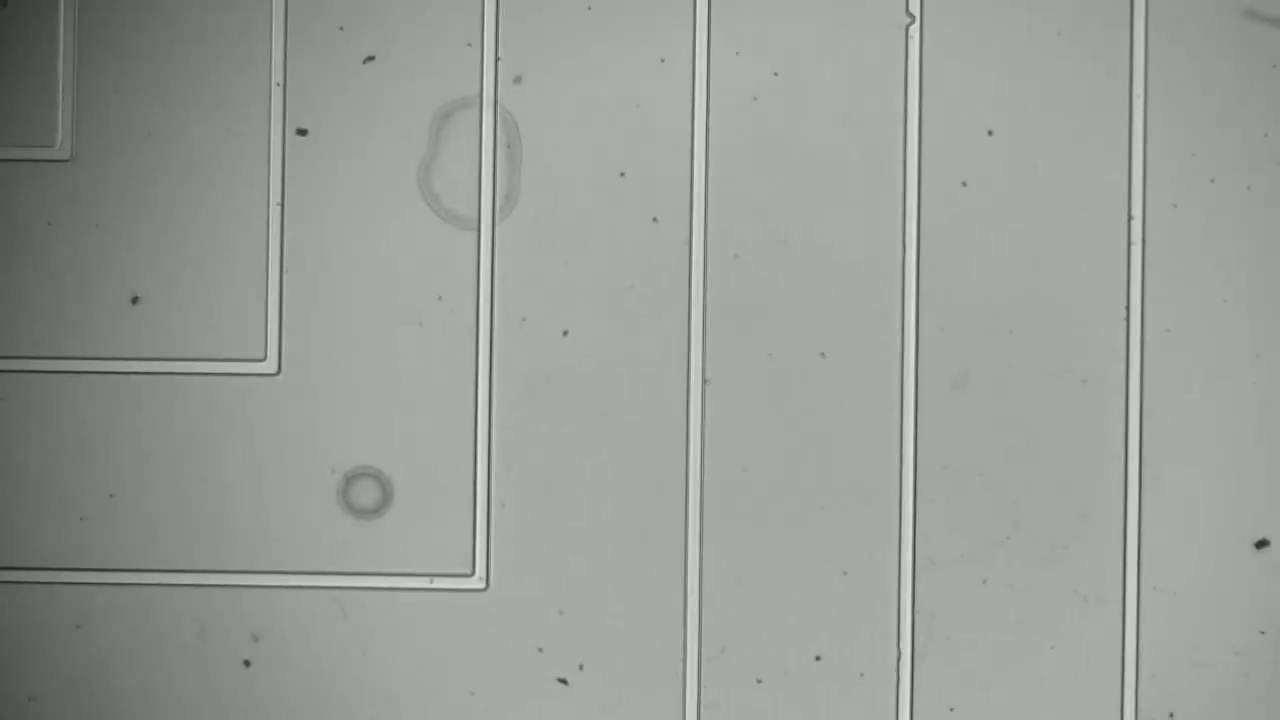edge_bite: (898, 6, 929, 34)
